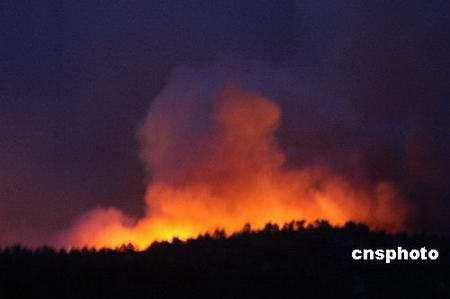fire: (96, 226, 199, 255)
